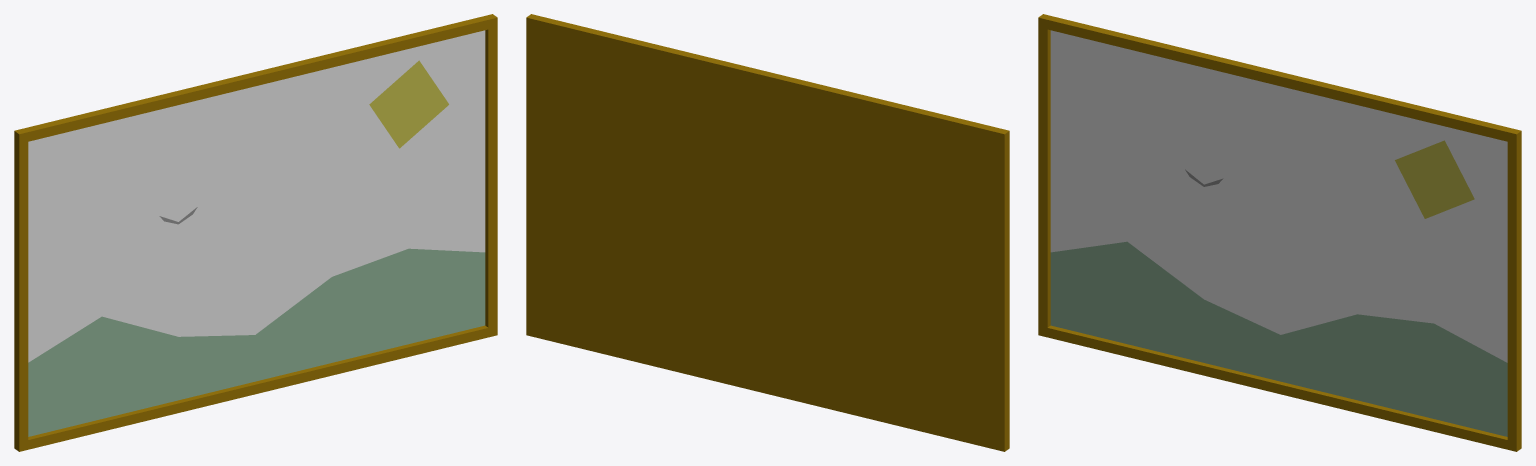
File: Cuadro 2.fbx
The picture shows the model from 3 angles, left to right: view 1: azimuth 30°, elevation 25°; view 2: azimuth 150°, elevation 25°; view 3: azimuth 330°, elevation 25°; orthographic projection.
Parts seen in each view (by area): view 1: Cuadro2; view 2: Cuadro2; view 3: Cuadro2.
Boxes of the visible parts, x1,y1,x2,y2 form: Cuadro2: (14,14,497,451); Cuadro2: (526,14,1009,451); Cuadro2: (1038,14,1521,451).
Size of the model in its own units: 6.08 by 3.85 by 0.108.
